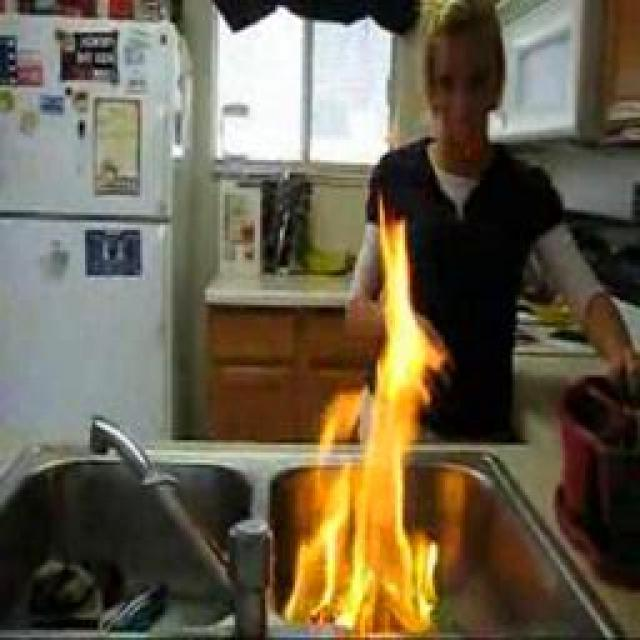Fire: (295, 219, 447, 629)
